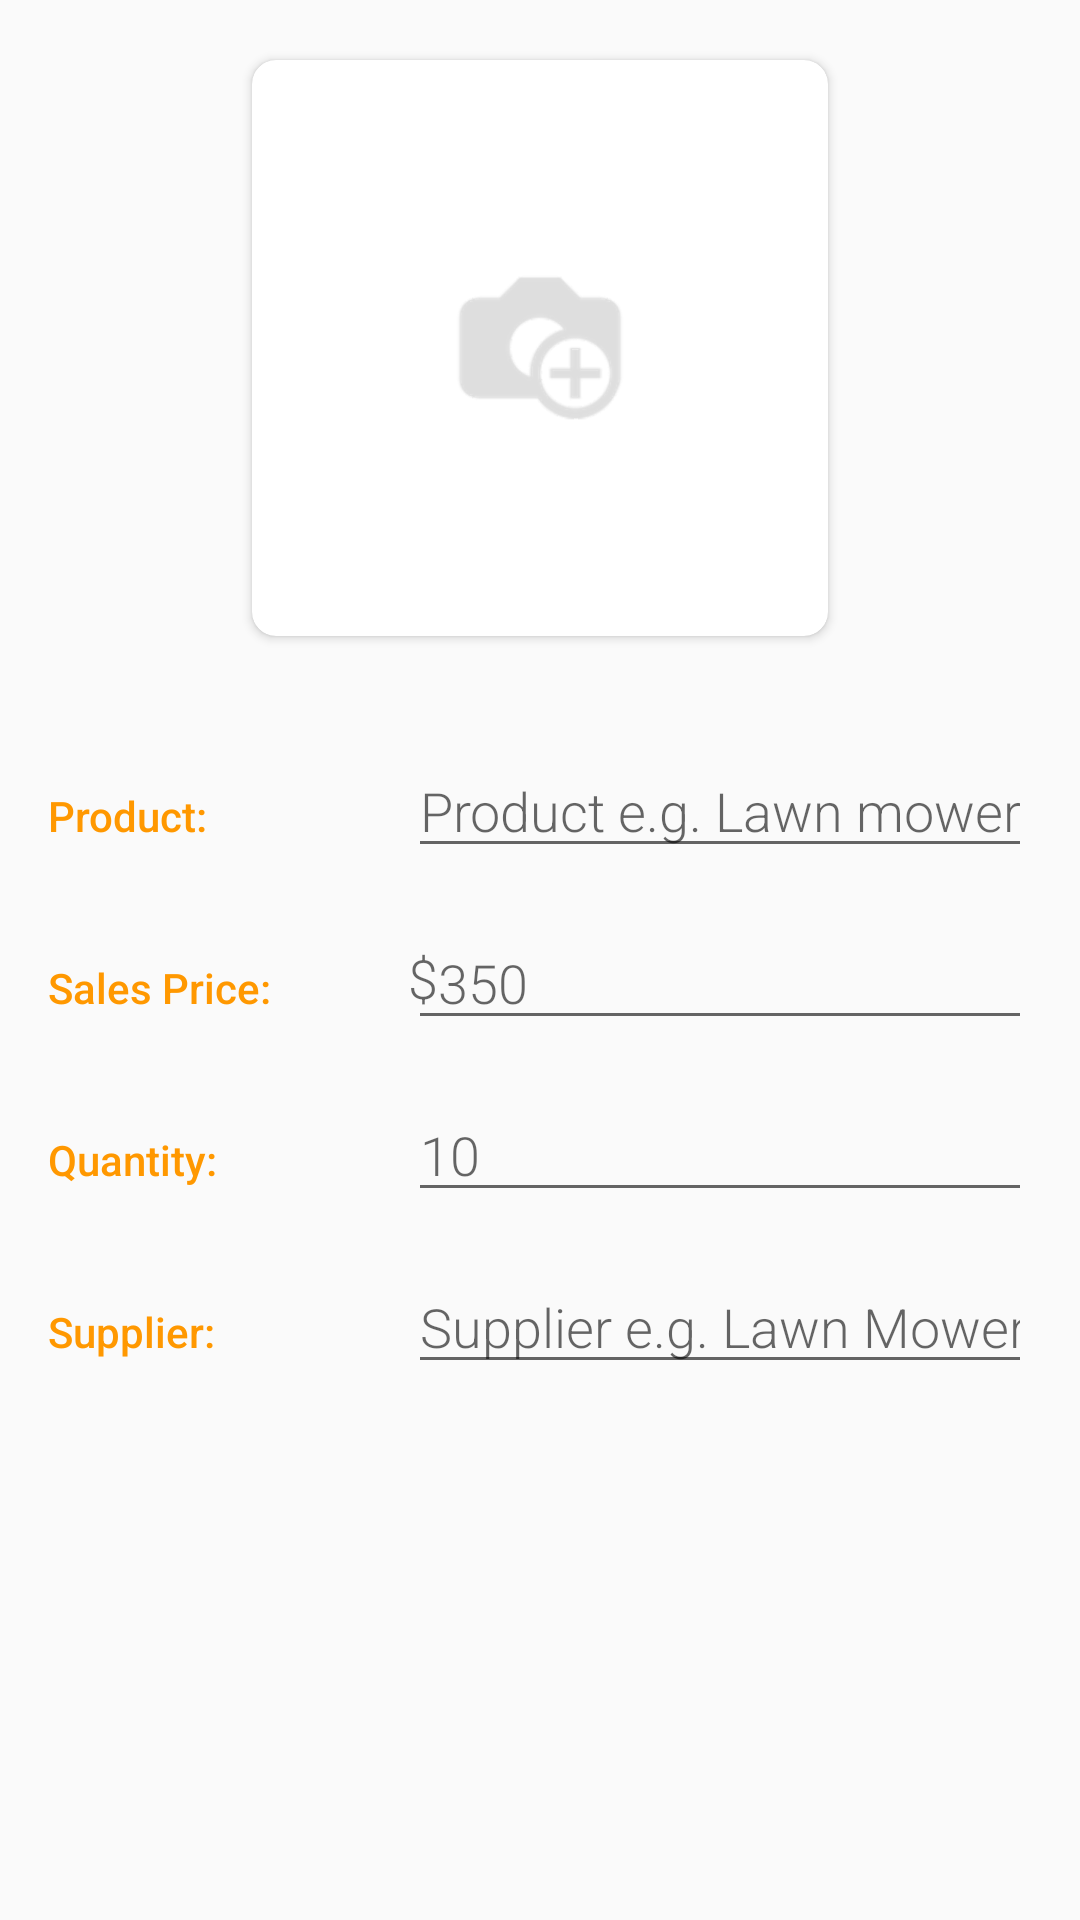

Screen size 1080w x 1920h. Icon name, then its box in pixels as box(x1, y1, x2, y2):
add: box(460, 278, 620, 419)
